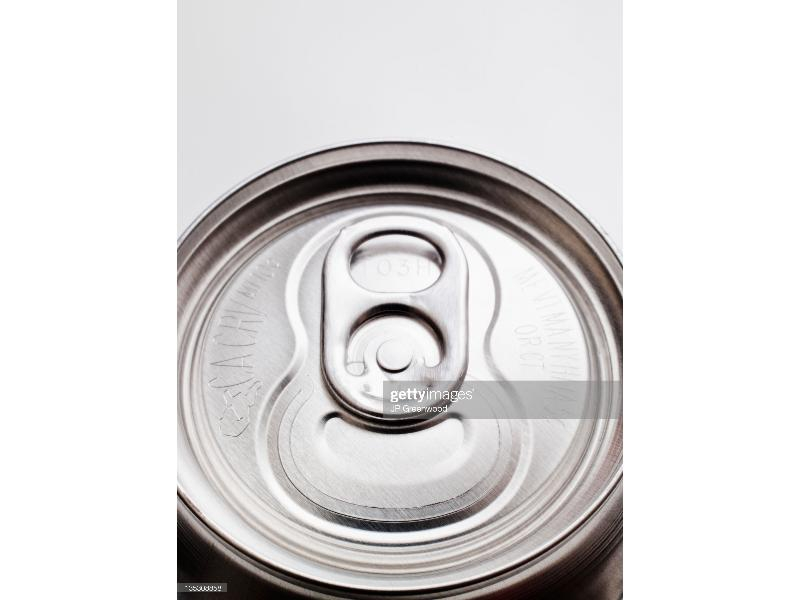can: (174, 136, 620, 598)
